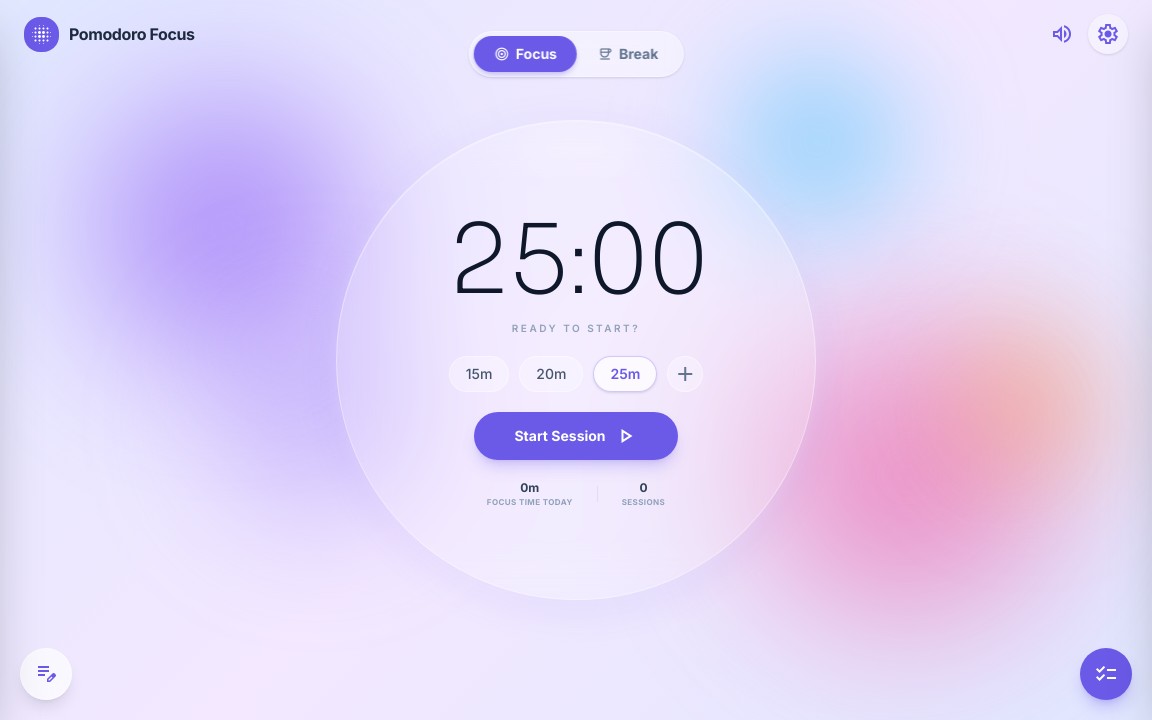
Scenario: AC-19 Notes CRUD + drawer behavior › edits and deletes a note
The width and height of the screenshot is (1152, 720).
Click the button named "Open notes" at (46, 674), box [20,648,72,700]
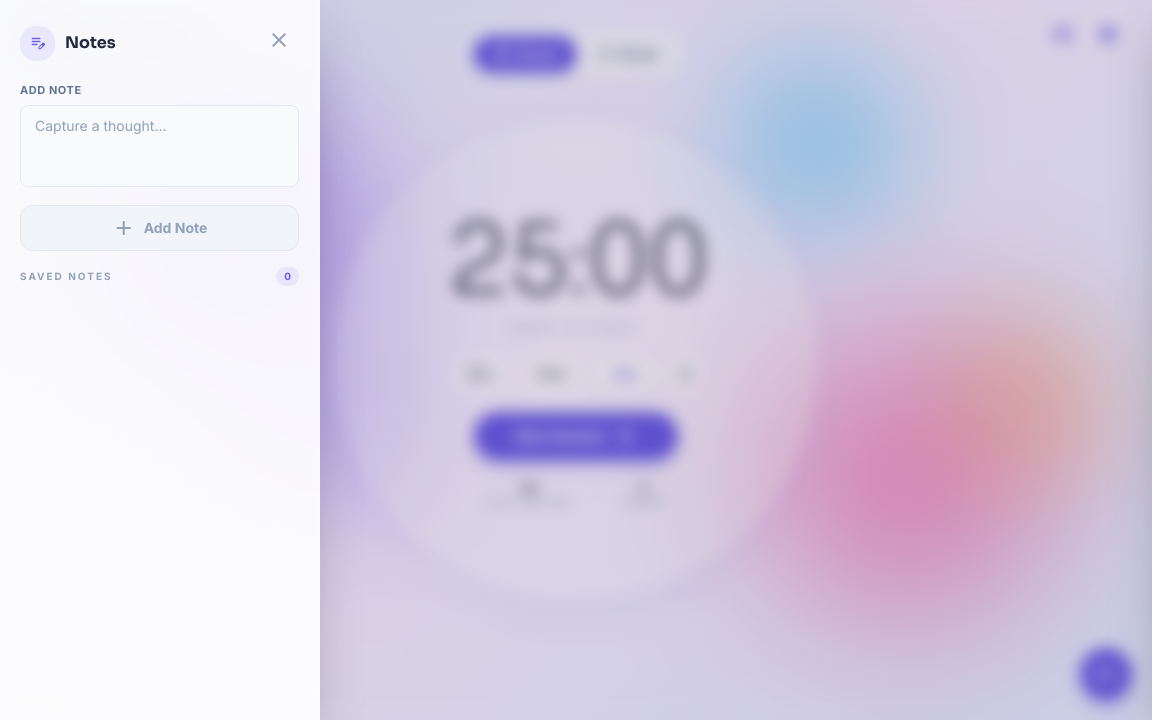
Type "original text" into the text box with placeholder "Capture a thought…" at (160, 146), box [20,104,299,186]
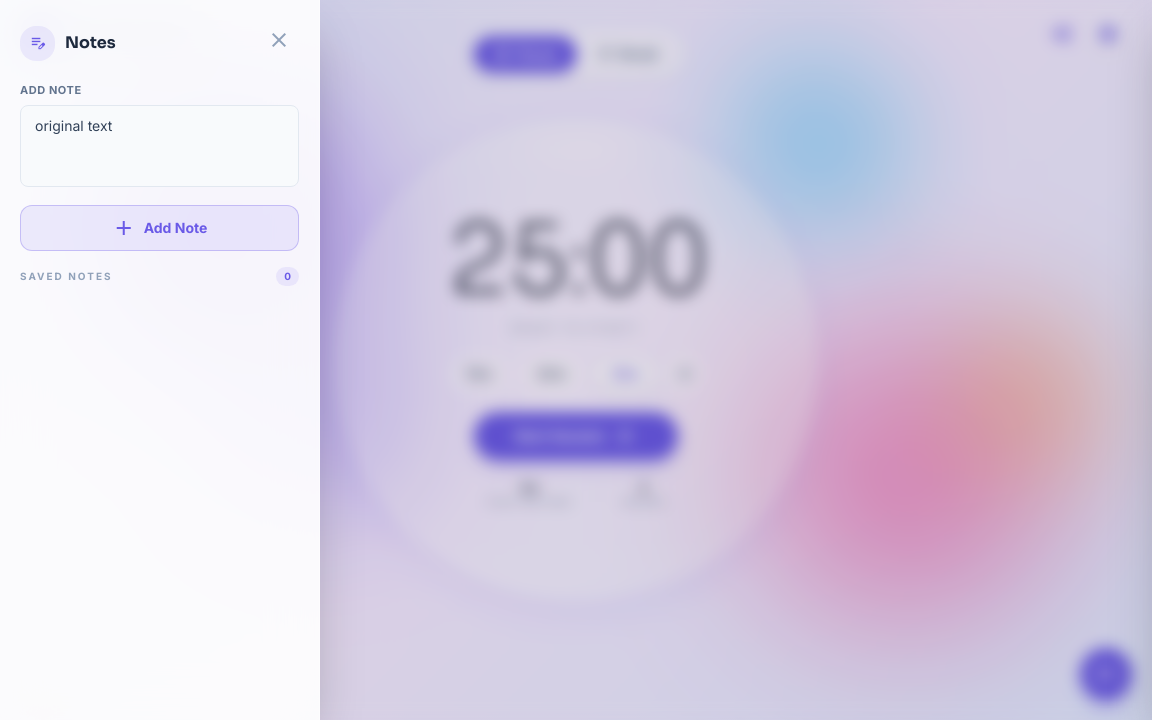
Click the button "Add Note" at (160, 228), box [20,204,299,250]
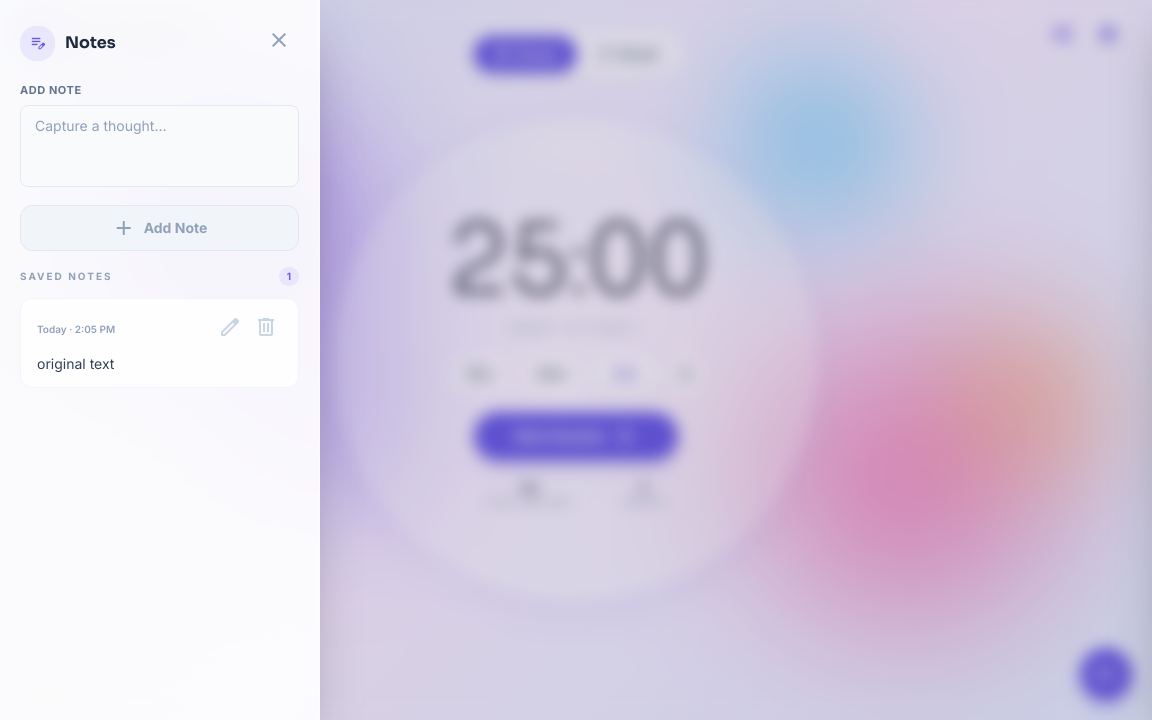
Click the button named "Edit note" at (230, 330), box [214,310,246,348]
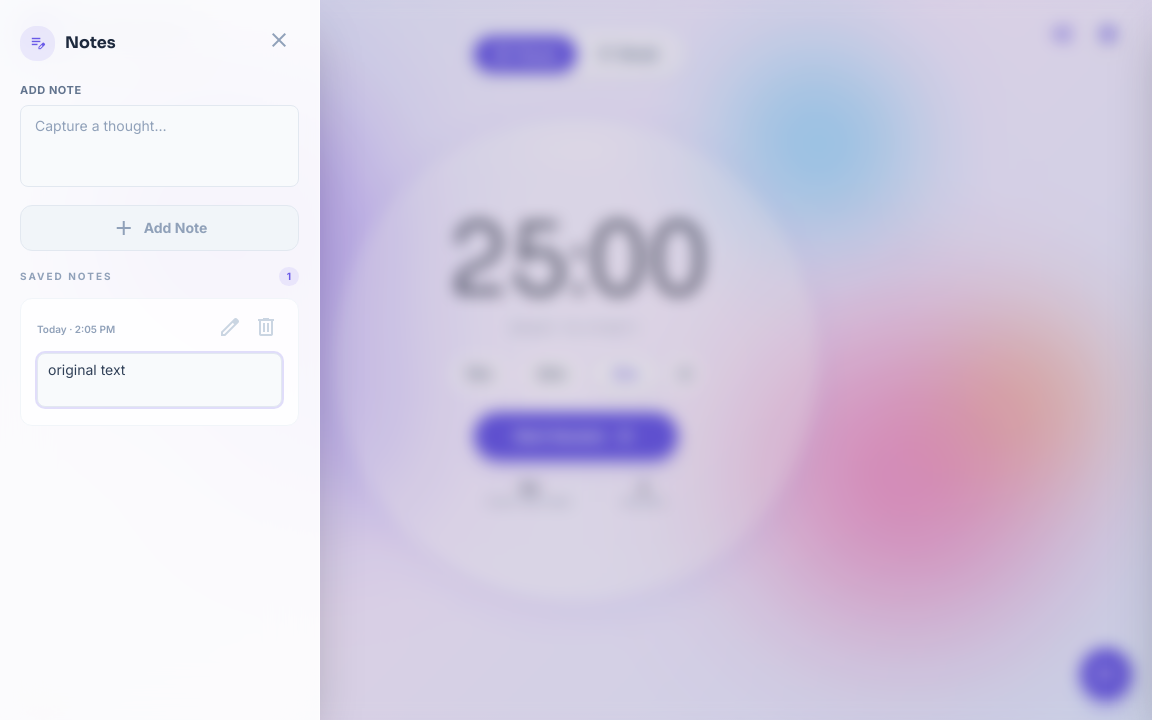
Replace the text in the text box showing "original text" with "edited text" at (160, 380), box [37,352,282,406]
Leave the text box showing "original text", box [37,352,282,406]
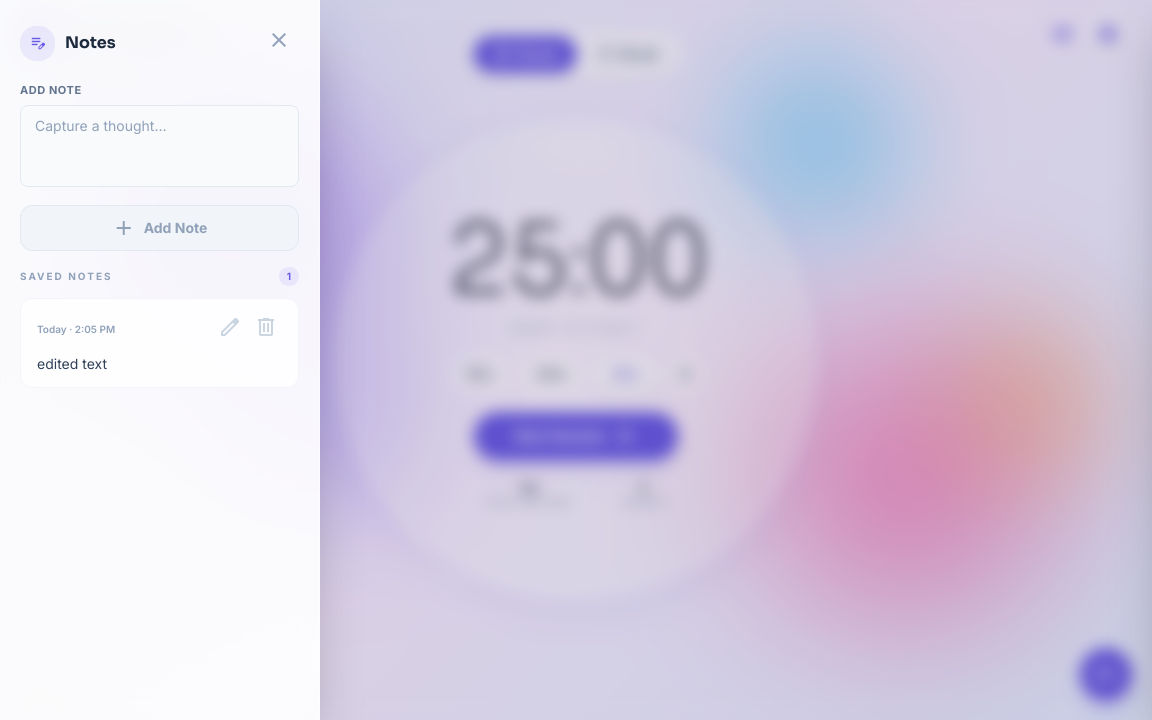
Result: the text "edited text" is shown at [37,354,107,372]
Click the button named "Delete note" at (266, 330), box [250,310,282,348]
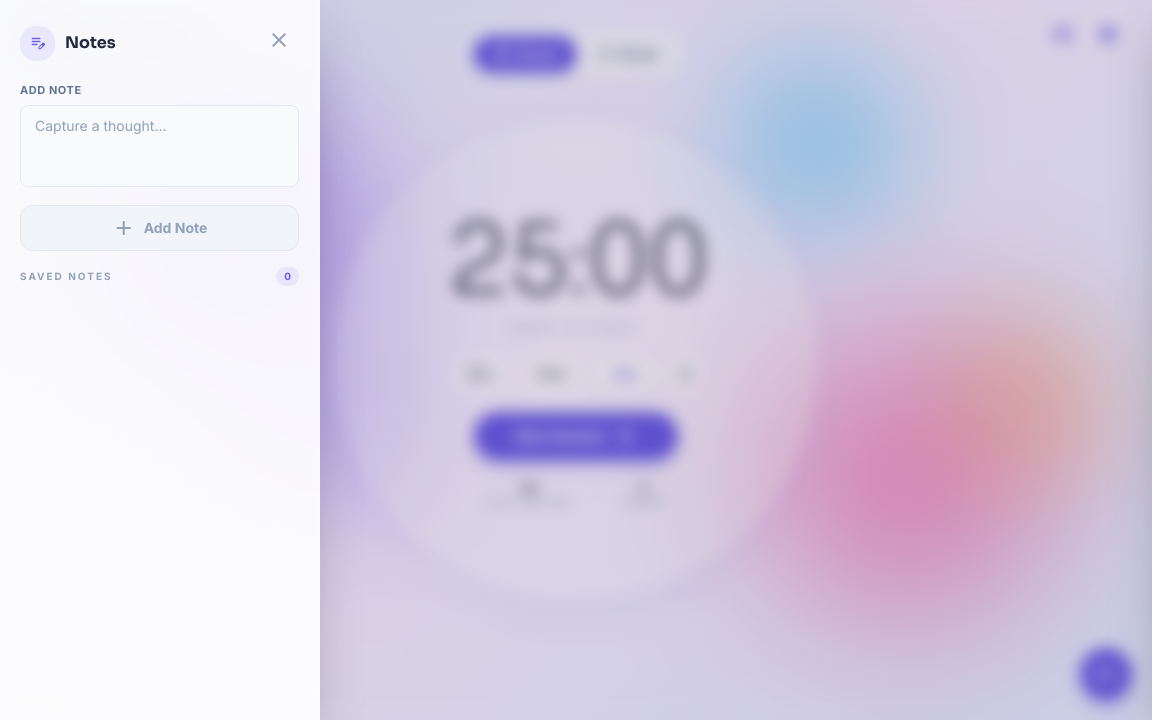
Result: the text "edited text" is gone
